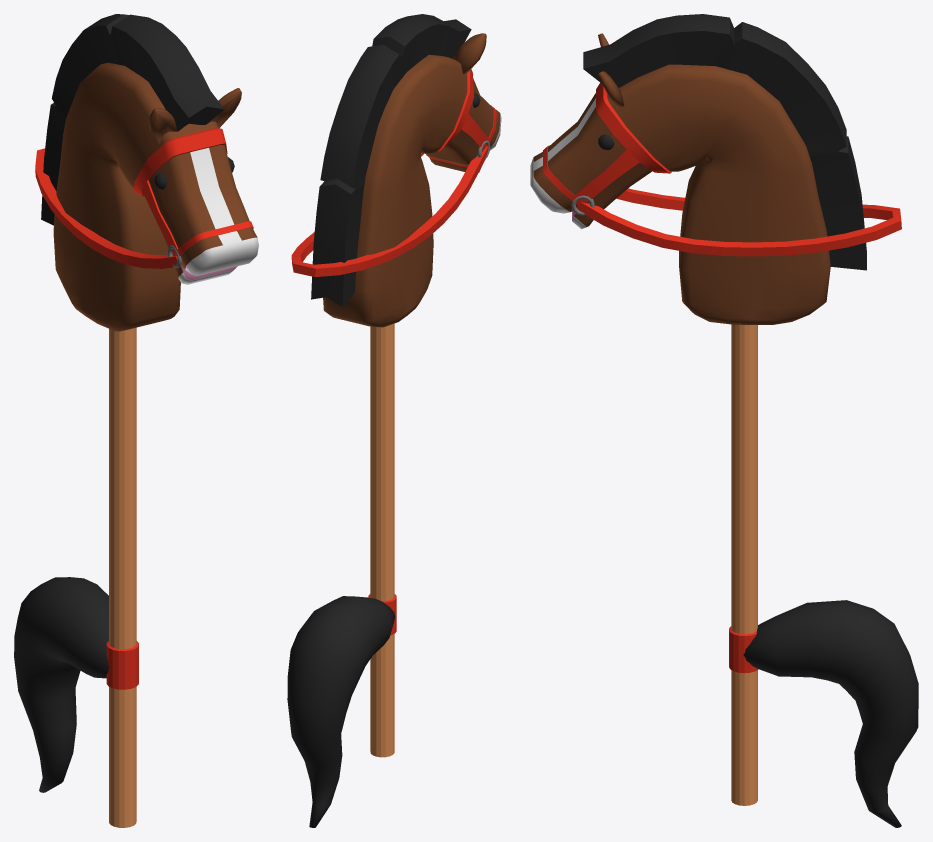
Rendered from horseStick.fbx.
3 renders of one model, left to right at view 1: azimuth 30°, elevation 25°; view 2: azimuth 150°, elevation 25°; view 3: azimuth 270°, elevation 25°, orthographic. The views are drawn at different scales.
Visible parts, largest first — view 1: HorseStick; view 2: HorseStick; view 3: HorseStick.
Part boxes in pixels (left/top/right/bottom): HorseStick: left=14, top=14, right=258, bottom=827; HorseStick: left=287, top=14, right=501, bottom=827; HorseStick: left=530, top=14, right=918, bottom=827.
Bounding box in the file's own units: 18.65 × 65.58 × 151.
